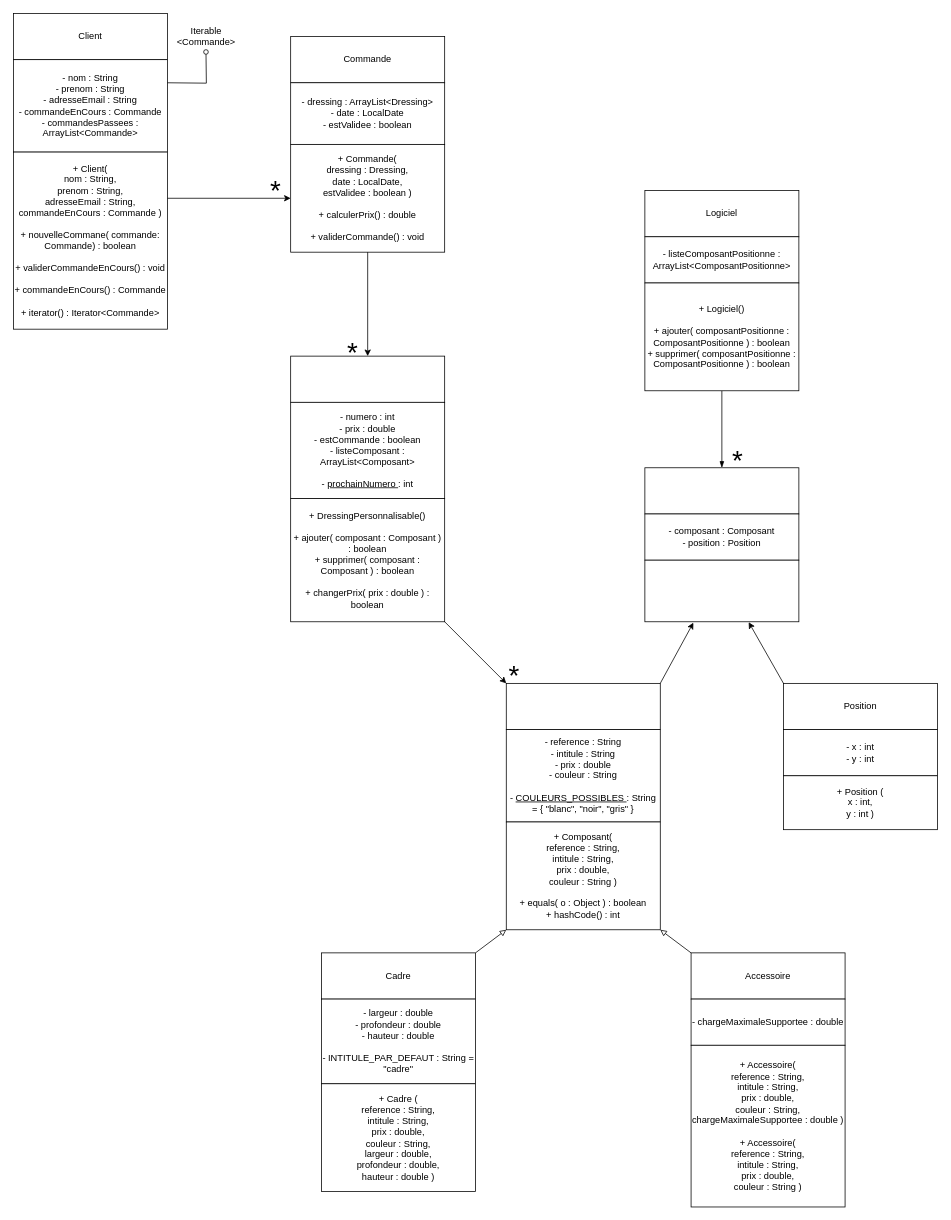
Some shapes in this 951 by 1220 pixel diagram are drawn without their labels. Each missing label, with the box of its shape:
+ ComposantPositionne( composant : Composant, position : Position ): (644, 559, 799, 622)
Composant: (506, 683, 660, 730)
ComposantPositionne: (644, 467, 799, 514)
Dressing: (290, 355, 445, 402)
